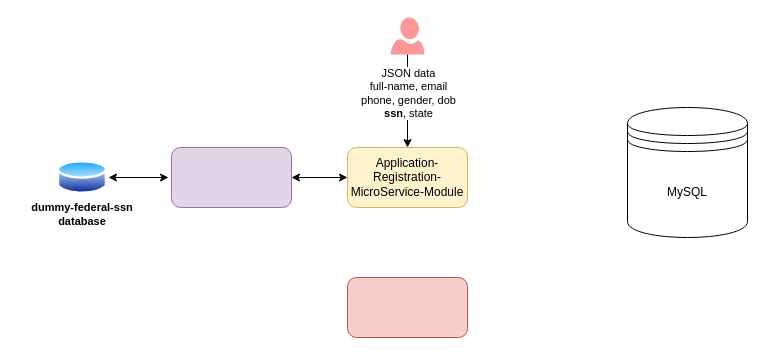
Image size: 765x355. Some labels were removed from this diagram. Here are the shapes that lost their labels. From the top down, the centre of each, then its label:
At [231,177]: "SSA-Web-Service".
At [407,307]: "Data Collectoin-Module".
